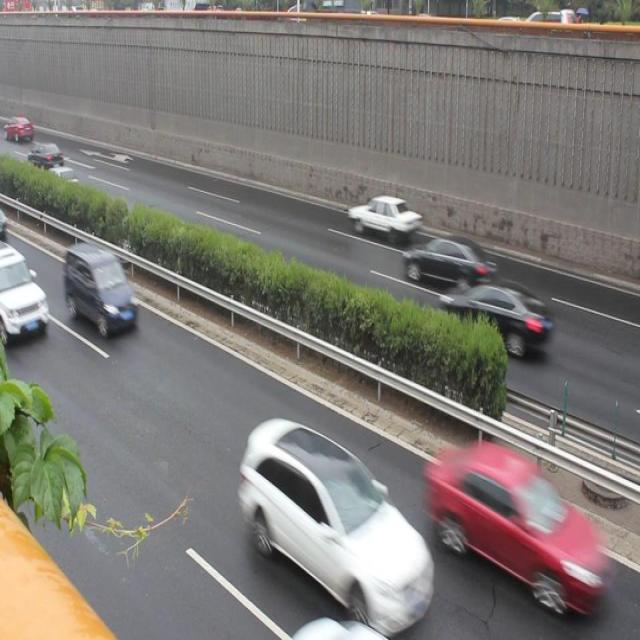car: (247, 418, 436, 617), (442, 279, 555, 367), (402, 228, 497, 297), (1, 242, 46, 352), (346, 187, 415, 256), (43, 158, 84, 198)
truck: (62, 242, 142, 339)
